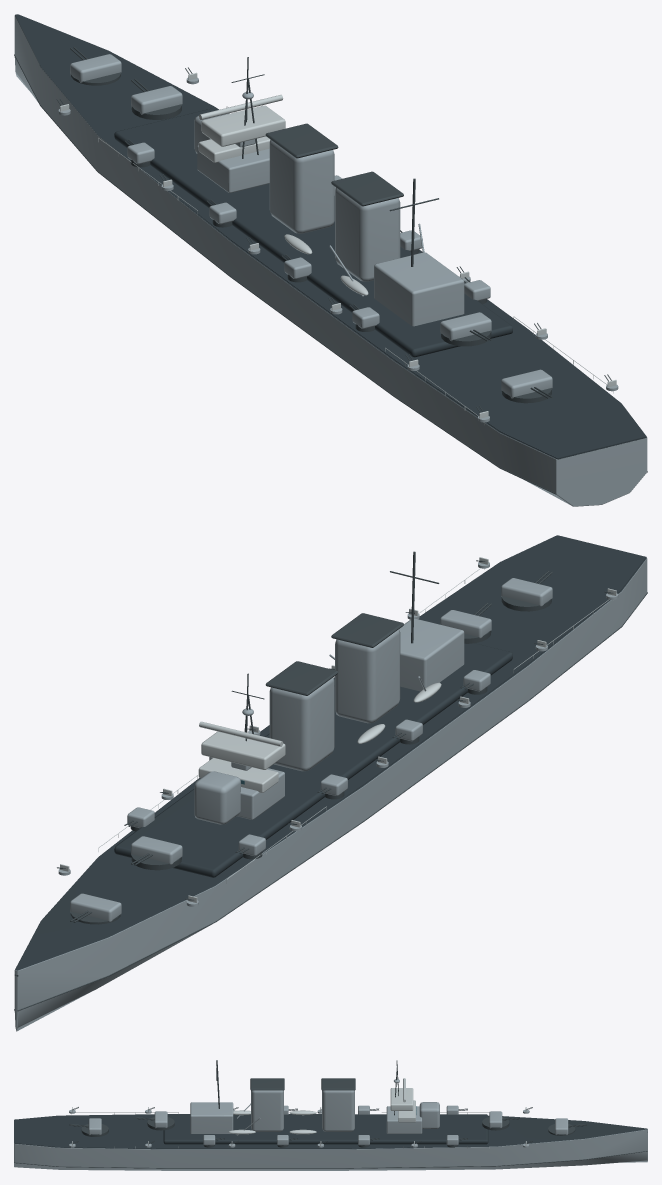
Rendered from generic-ww2-battleship.glb.
3 views of the same model, one above another, from view 1: azimuth 30°, elevation 25°; view 2: azimuth 150°, elevation 25°; view 3: azimuth 270°, elevation 25° (orthographic). The views are drawn at different scales.
Visible parts, largest first — view 1: ww2-battleship_Hull, ww2-battleship_MainDeck, ww2-battleship_ArmouredCitadel, ww2-battleship_AftSuperstructure, ww2-battleship_Funnel, ww2-battleship_Funnel.001, ww2-battleship_LowerBridge, ww2-battleship_AdmiralBridge, ww2-battleship_FunnelCap, ww2-battleship_FunnelCap.001, ww2-battleship_NavalGunTurret.001, ww2-battleship_NavalGunTurret (+3 smaller); view 2: ww2-battleship_Hull, ww2-battleship_MainDeck, ww2-battleship_ArmouredCitadel, ww2-battleship_Funnel.001, ww2-battleship_Funnel, ww2-battleship_AftSuperstructure, ww2-battleship_ArmouredConningTower, ww2-battleship_AdmiralBridge, ww2-battleship_FunnelCap.001, ww2-battleship_FunnelCap, ww2-battleship_Wheelhouse, ww2-battleship_LowerBridge (+4 smaller); view 3: ww2-battleship_Hull, ww2-battleship_ArmouredCitadel, ww2-battleship_MainDeck, ww2-battleship_AftSuperstructure, ww2-battleship_Funnel, ww2-battleship_Funnel.001, ww2-battleship_LowerBridge, ww2-battleship_ArmouredConningTower, ww2-battleship_AdmiralBridge, ww2-battleship_FunnelCap, ww2-battleship_FunnelCap.001, ww2-battleship_Wheelhouse (+8 smaller).
Boxes of the visible parts, bbox=[...] form: ww2-battleship_Hull: bbox=[14, 14, 647, 506]; ww2-battleship_MainDeck: bbox=[169, 185, 646, 459]; ww2-battleship_ArmouredCitadel: bbox=[114, 108, 512, 357]; ww2-battleship_AftSuperstructure: bbox=[374, 252, 464, 326]; ww2-battleship_Funnel: bbox=[269, 139, 334, 233]; ww2-battleship_Funnel.001: bbox=[335, 187, 400, 281]; ww2-battleship_LowerBridge: bbox=[197, 145, 269, 192]; ww2-battleship_AdmiralBridge: bbox=[201, 105, 285, 146]; ww2-battleship_FunnelCap: bbox=[265, 123, 338, 158]; ww2-battleship_FunnelCap.001: bbox=[331, 171, 403, 206]; ww2-battleship_NavalGunTurret.001: bbox=[131, 86, 182, 114]; ww2-battleship_NavalGunTurret: bbox=[70, 54, 121, 82]; ww2-battleship_Hull: bbox=[14, 558, 647, 1031]; ww2-battleship_MainDeck: bbox=[14, 535, 646, 976]; ww2-battleship_ArmouredCitadel: bbox=[114, 643, 512, 877]; ww2-battleship_Funnel.001: bbox=[335, 629, 400, 723]; ww2-battleship_Funnel: bbox=[269, 677, 334, 771]; ww2-battleship_AftSuperstructure: bbox=[399, 618, 464, 691]; ww2-battleship_ArmouredConningTower: bbox=[194, 771, 240, 824]; ww2-battleship_AdmiralBridge: bbox=[201, 731, 285, 769]; ww2-battleship_FunnelCap.001: bbox=[331, 613, 403, 647]; ww2-battleship_FunnelCap: bbox=[265, 661, 338, 695]; ww2-battleship_Wheelhouse: bbox=[198, 758, 278, 792]; ww2-battleship_LowerBridge: bbox=[237, 768, 284, 819]; ww2-battleship_Hull: bbox=[14, 1115, 647, 1170]; ww2-battleship_ArmouredCitadel: bbox=[163, 1114, 488, 1144]; ww2-battleship_MainDeck: bbox=[14, 1114, 647, 1148]; ww2-battleship_AftSuperstructure: bbox=[190, 1102, 233, 1133]; ww2-battleship_Funnel: bbox=[322, 1090, 354, 1131]; ww2-battleship_Funnel.001: bbox=[251, 1090, 283, 1131]; ww2-battleship_LowerBridge: bbox=[386, 1106, 422, 1133]; ww2-battleship_ArmouredConningTower: bbox=[419, 1102, 439, 1128]; ww2-battleship_AdmiralBridge: bbox=[390, 1088, 413, 1110]; ww2-battleship_FunnelCap: bbox=[321, 1078, 355, 1090]; ww2-battleship_FunnelCap.001: bbox=[250, 1078, 284, 1090]; ww2-battleship_Wheelhouse: bbox=[398, 1100, 415, 1122].
Size of the model in its own units: 34.2 by 44.51 by 250.
